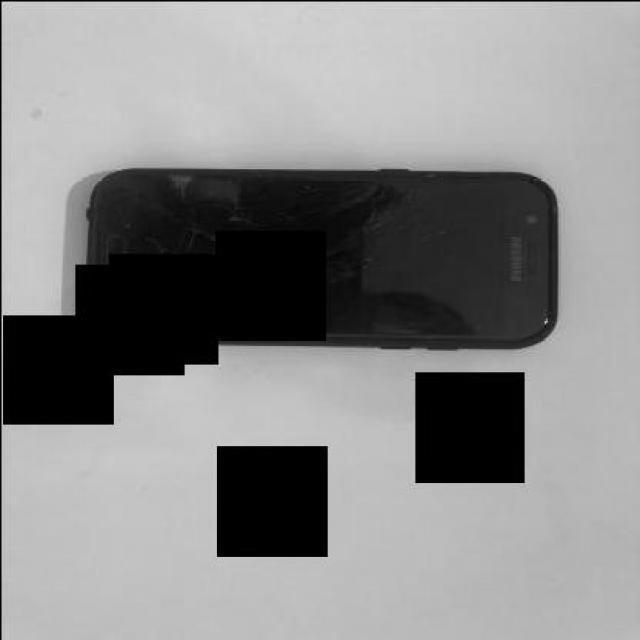fake: (86, 168, 560, 344)
